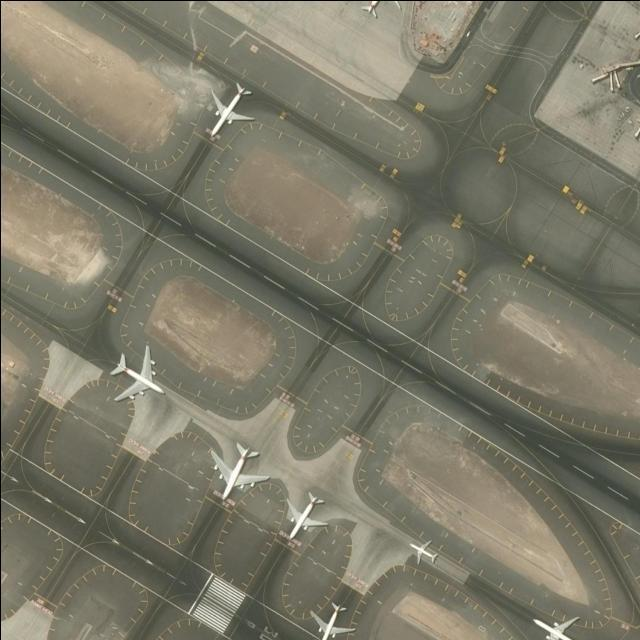Aircraft: (207, 445, 272, 505), (106, 349, 168, 403), (200, 82, 257, 138), (279, 489, 333, 543), (309, 600, 357, 640), (533, 608, 592, 640), (357, 0, 409, 20), (406, 537, 439, 564)
